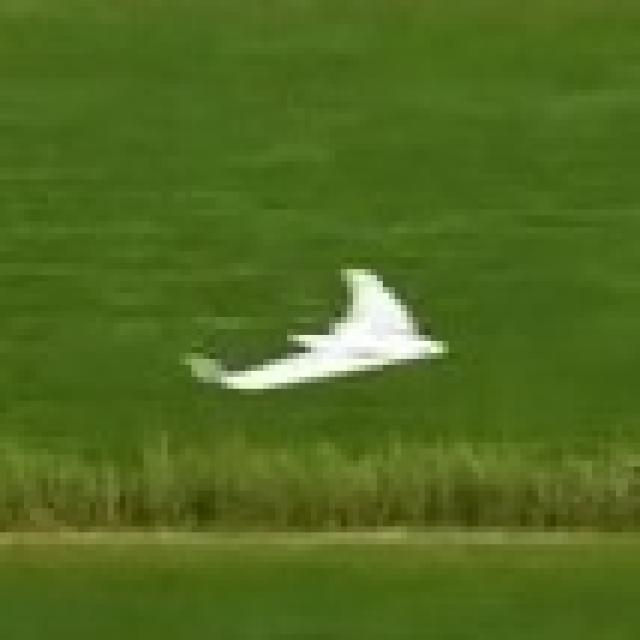iha: (180, 221, 460, 419)
